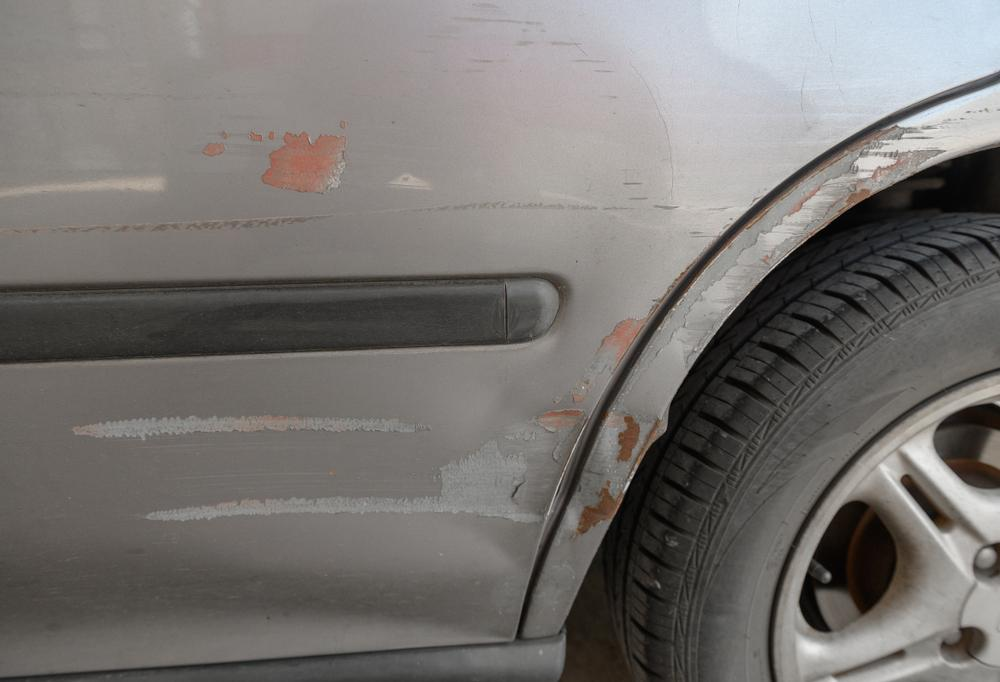scratch: (552, 99, 1000, 542), (60, 314, 647, 527), (0, 119, 741, 243), (445, 0, 638, 110)
